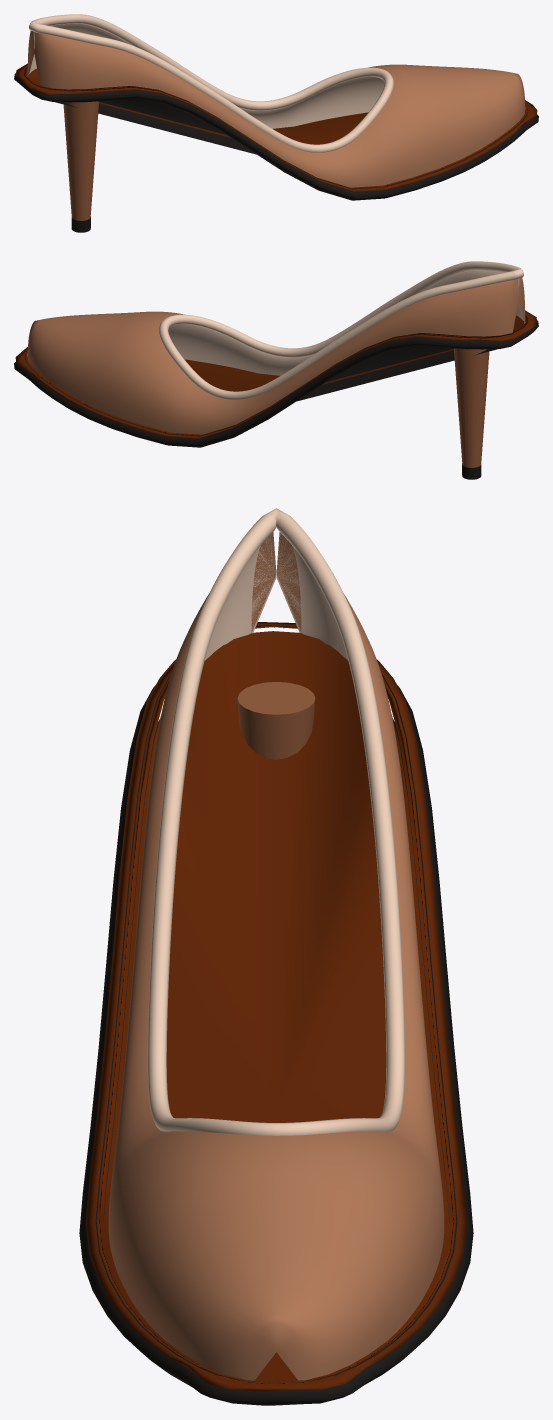
Rendered from stiletto-pump-nude.glb.
The picture shows the model from 3 angles, top to bottom: view 1: azimuth 30°, elevation 25°; view 2: azimuth 150°, elevation 25°; view 3: azimuth 270°, elevation 25°; orthographic projection. The views are drawn at different scales.
Parts seen in each view (by area): view 1: upper, outsole, collar, midsole, lining, heel; view 2: upper, outsole, collar, midsole, lining, heel; view 3: midsole, upper, collar, outsole, lining, heel.
Boxes of the visible parts, x1=… form: upper: x1=27, y1=31, x2=525, y2=187; outsole: x1=14, y1=68, x2=538, y2=200; collar: x1=29, y1=14, x2=393, y2=152; midsole: x1=15, y1=63, x2=537, y2=191; lining: x1=29, y1=23, x2=384, y2=128; heel: x1=63, y1=101, x2=98, y2=220; upper: x1=27, y1=278, x2=525, y2=434; outsole: x1=14, y1=316, x2=538, y2=447; collar: x1=159, y1=261, x2=523, y2=399; midsole: x1=15, y1=310, x2=537, y2=438; lining: x1=168, y1=270, x2=523, y2=375; heel: x1=454, y1=348, x2=489, y2=467; midsole: x1=86, y1=622, x2=466, y2=1391; upper: x1=108, y1=532, x2=444, y2=1380; collar: x1=147, y1=508, x2=405, y2=1135; outsole: x1=79, y1=627, x2=473, y2=1405; lining: x1=204, y1=533, x2=348, y2=660; heel: x1=237, y1=682, x2=315, y2=759.
Size of the model in its own units: 0.268 by 0.1112 by 0.091.
